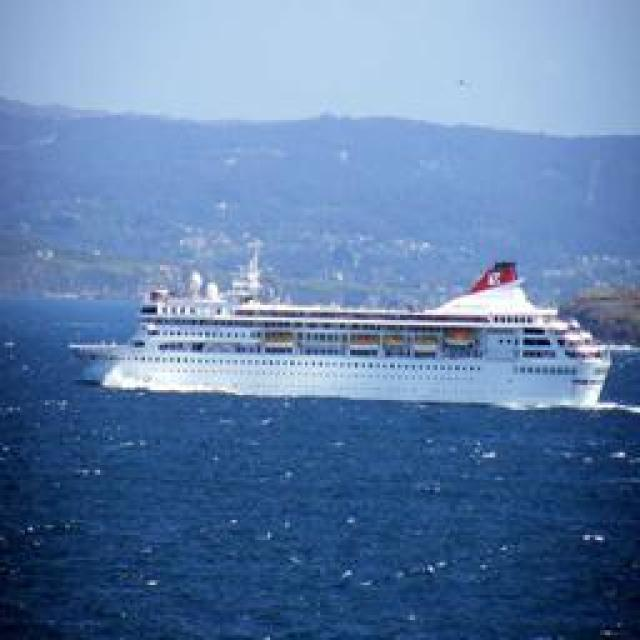ship2: (67, 248, 614, 408)
